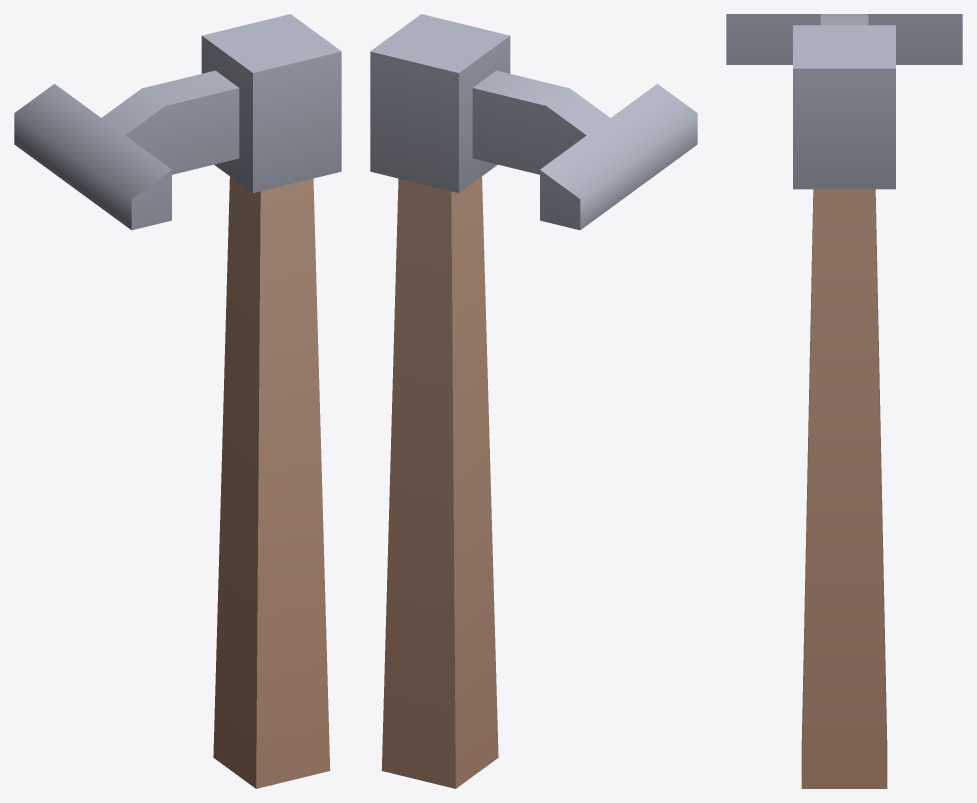
The model's file is tool-hoe.glb.
3 renders of one model, left to right at view 1: azimuth 30°, elevation 25°; view 2: azimuth 150°, elevation 25°; view 3: azimuth 270°, elevation 25°, orthographic.
Visible parts, largest first — view 1: tool-hoe; view 2: tool-hoe; view 3: tool-hoe.
Part boxes in pixels (x1,y1,x2,y2): tool-hoe: [14, 14, 341, 788]; tool-hoe: [370, 14, 697, 788]; tool-hoe: [726, 14, 962, 788].
Bounding box in the file's own units: 0.0848 × 0.24 × 0.0709.
